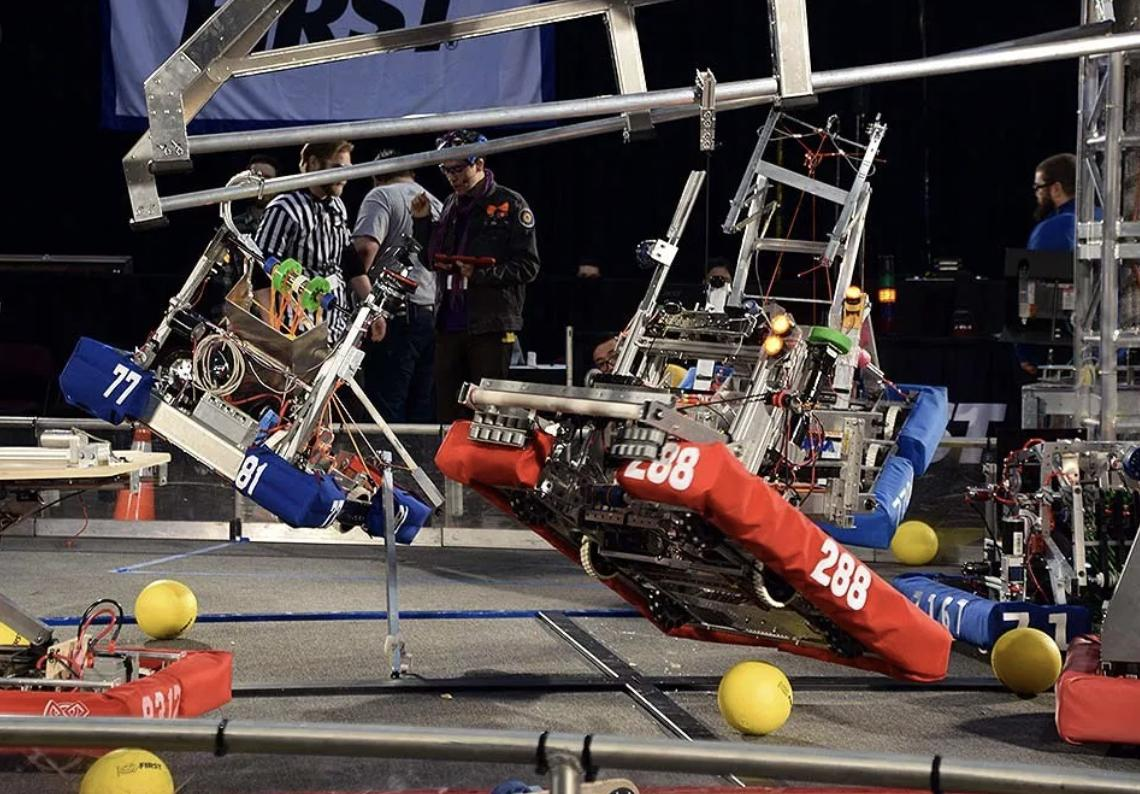robot: (432, 67, 968, 702), (54, 161, 447, 563), (671, 70, 954, 552), (883, 381, 1140, 664), (0, 572, 244, 766), (1046, 481, 1140, 758)
